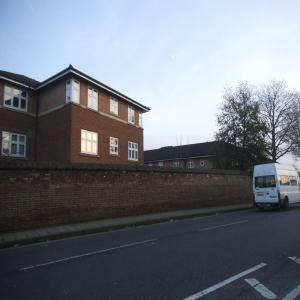Vehicle-registration-plate: (258, 194, 265, 197)
